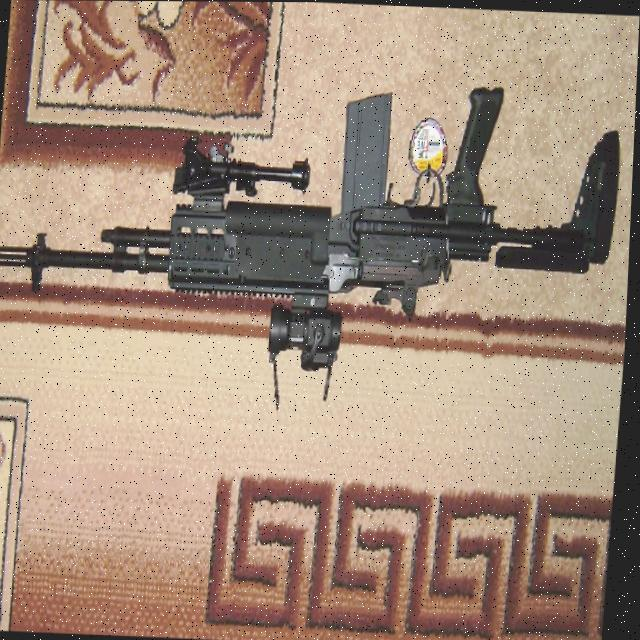firearm: (0, 66, 628, 423)
